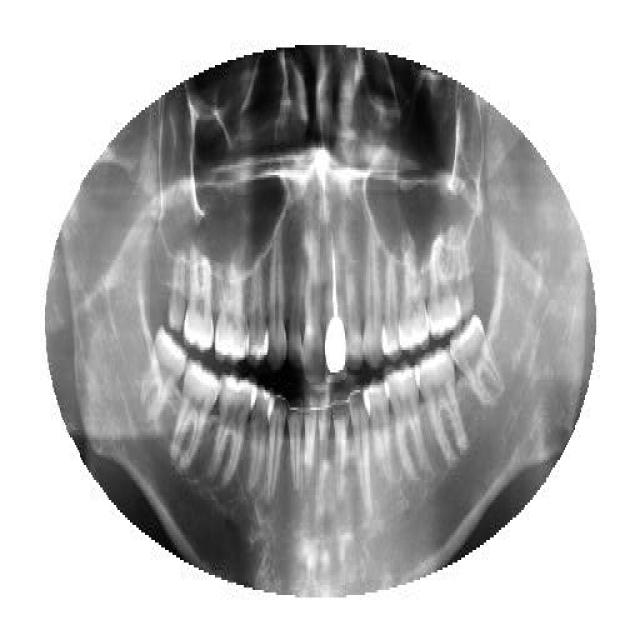Implant: (322, 240, 348, 375)
